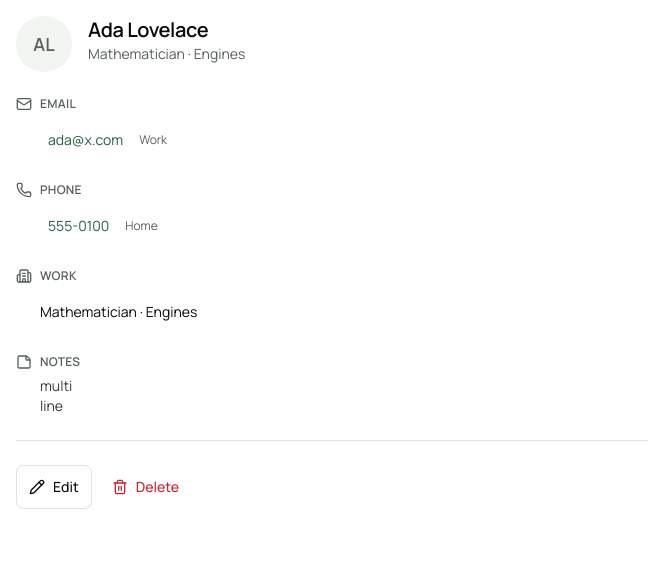
it: ContactDetailRoute wrapper › shows a generic delete failure without navigating away
Click the button "Delete" at x=145, y=487, box [100,465,191,509]
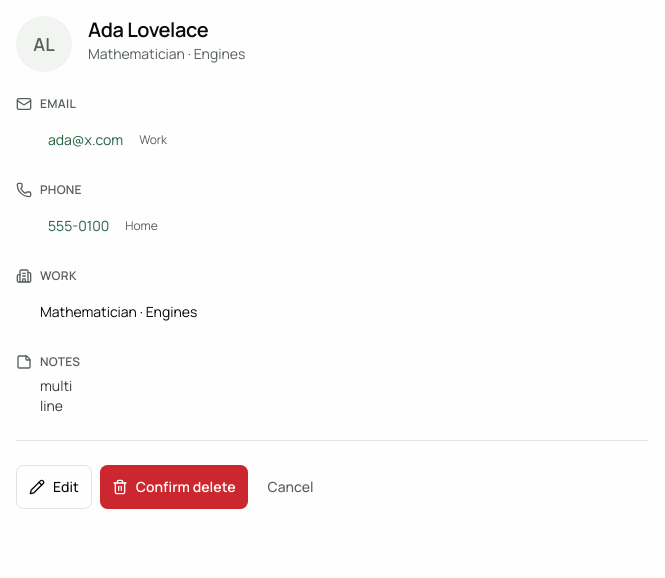
Click the button "Confirm delete" at x=174, y=487, box [100,465,248,509]
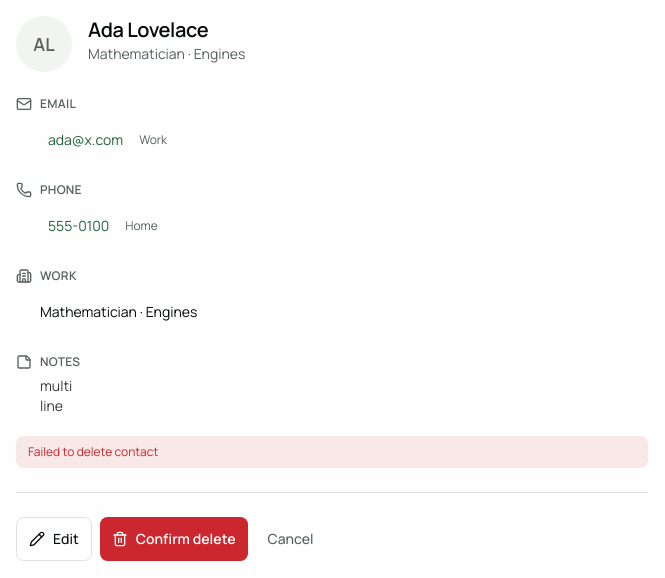
Result: the text "Failed to delete contact" is shown at [16,436,648,468]
